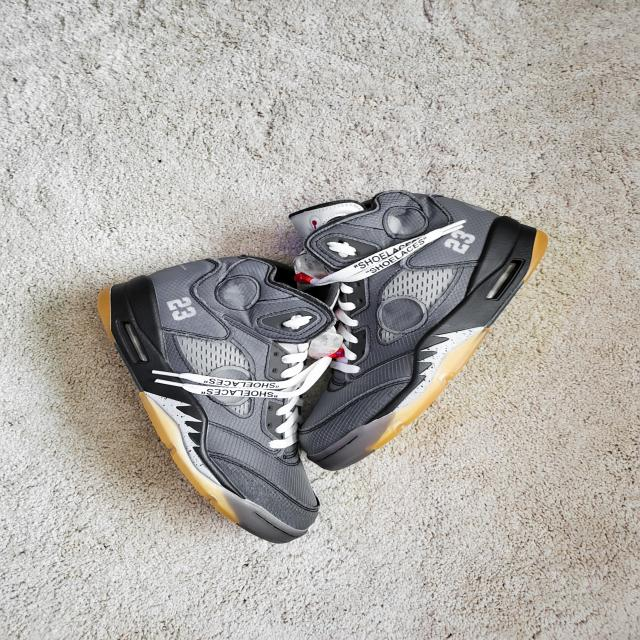shoes: (270, 165, 560, 481), (94, 243, 360, 563)
